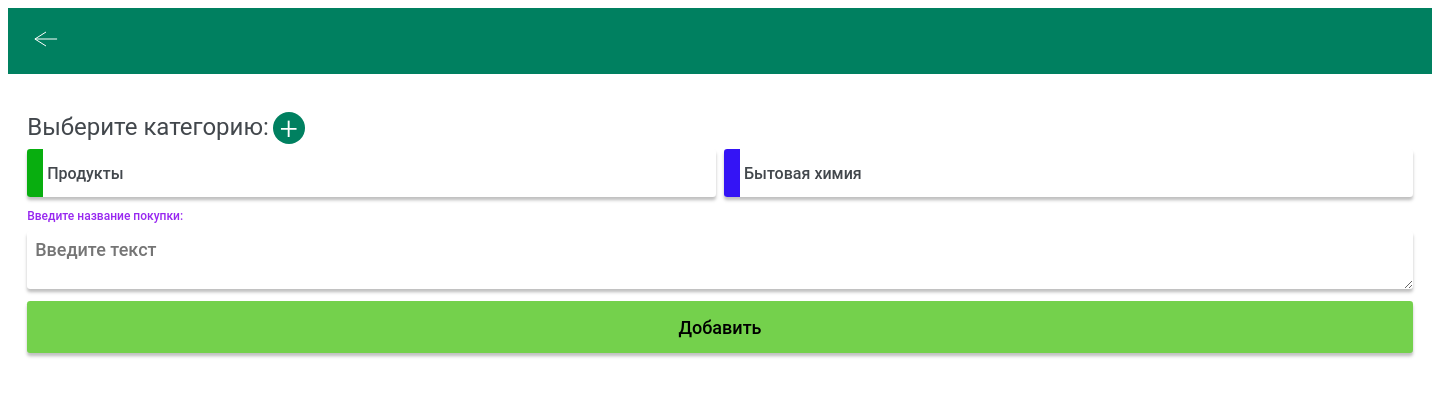
it: testing CategorySelect add Item error › test render CategorySelect add Item error
The width and height of the screenshot is (1440, 411).
Expected: the button "Продукты" is shown, [27,150,716,198]
Click the button "Бытовая химия".
click(803, 173)  # box [724,150,1413,198]
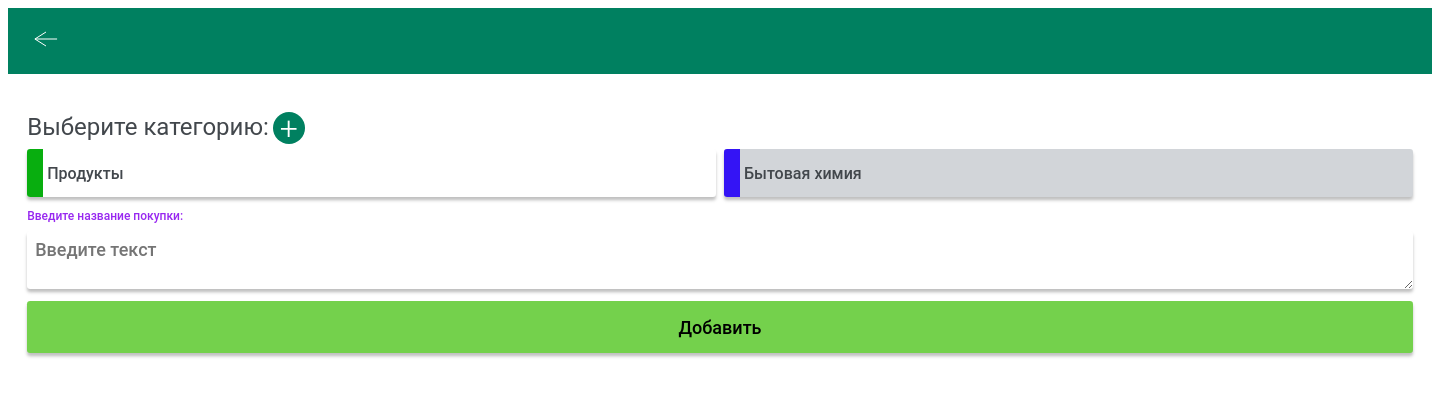
Type "Чистящее средство" into the text box with placeholder "Введите текст".
click(720, 260); type("Чистящее средство")  # box [27,232,1413,290]
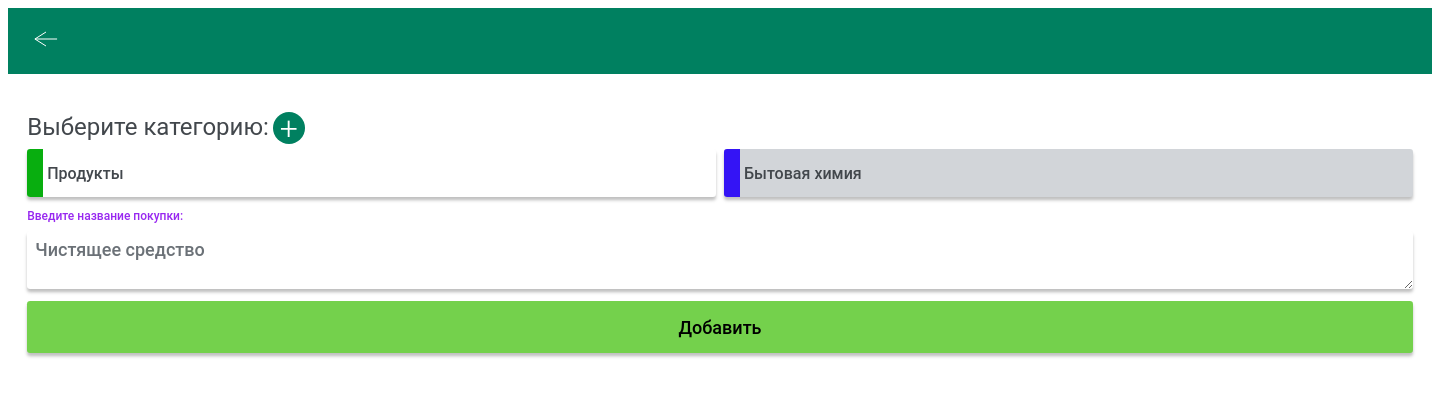
Click the button titled "Добавить".
click(720, 328)  # box [27,302,1413,354]
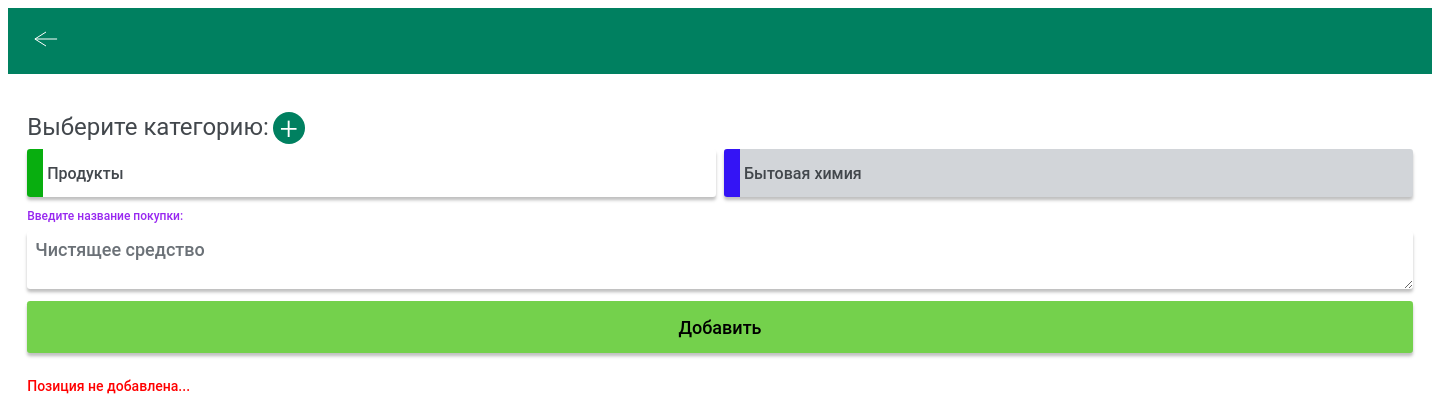
Expected: the text "Позиция не добавлена..." is shown, [27,378,190,394]
